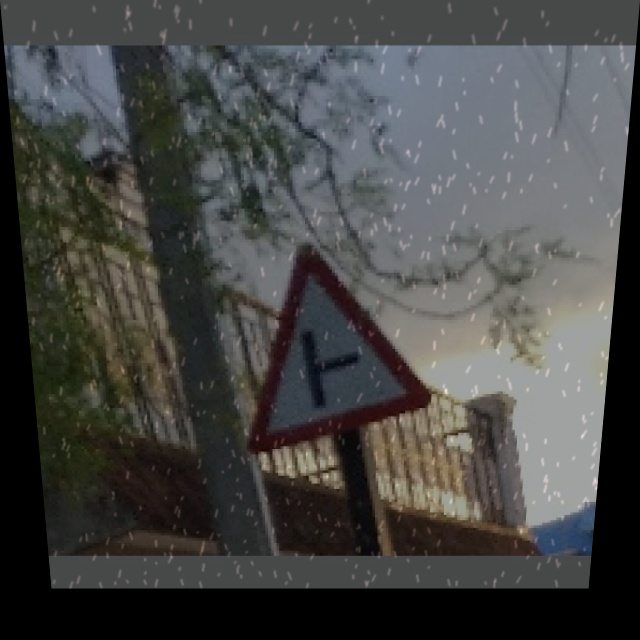Side_Road_Right: (230, 243, 423, 436)
